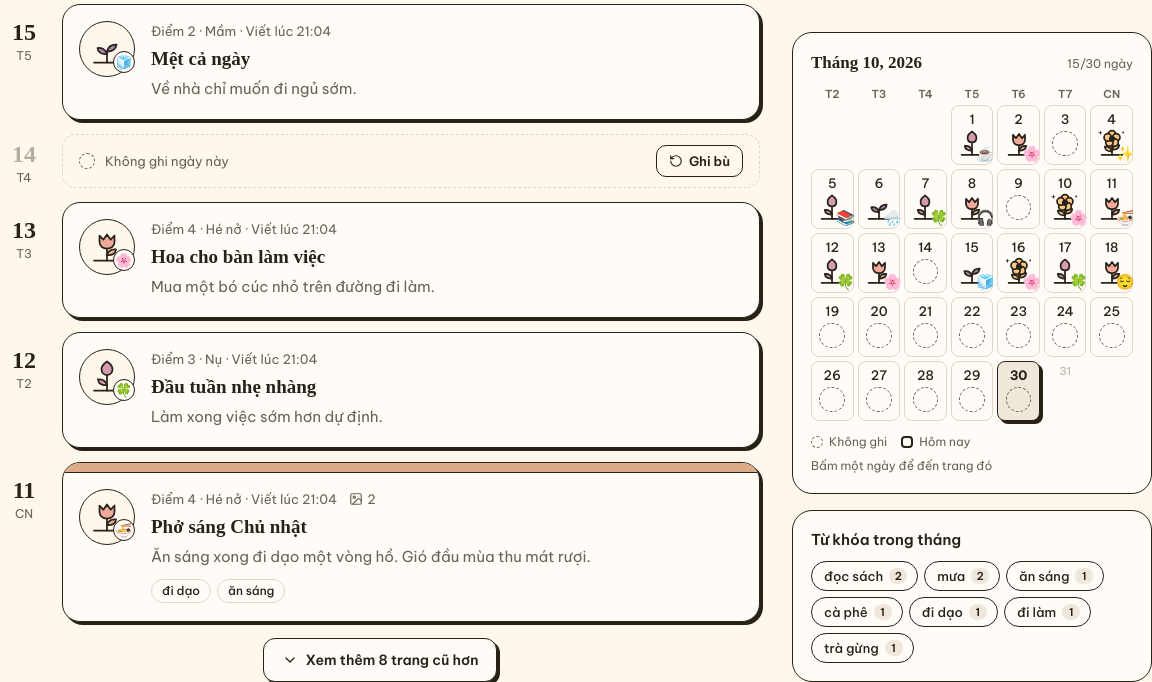
Scenario: Dòng thời gian › hiện thống kê, 7 trang mới nhất, xem thêm, và nút Ghi bù ở ngày bỏ trống
(page scrolled)
Check: the link "Cà phê đầu tháng" is not shown
Step 1. Click the button "Xem thêm 8 trang cũ hơn" → (380, 660), box [263,638,497,681]
(page scrolled)
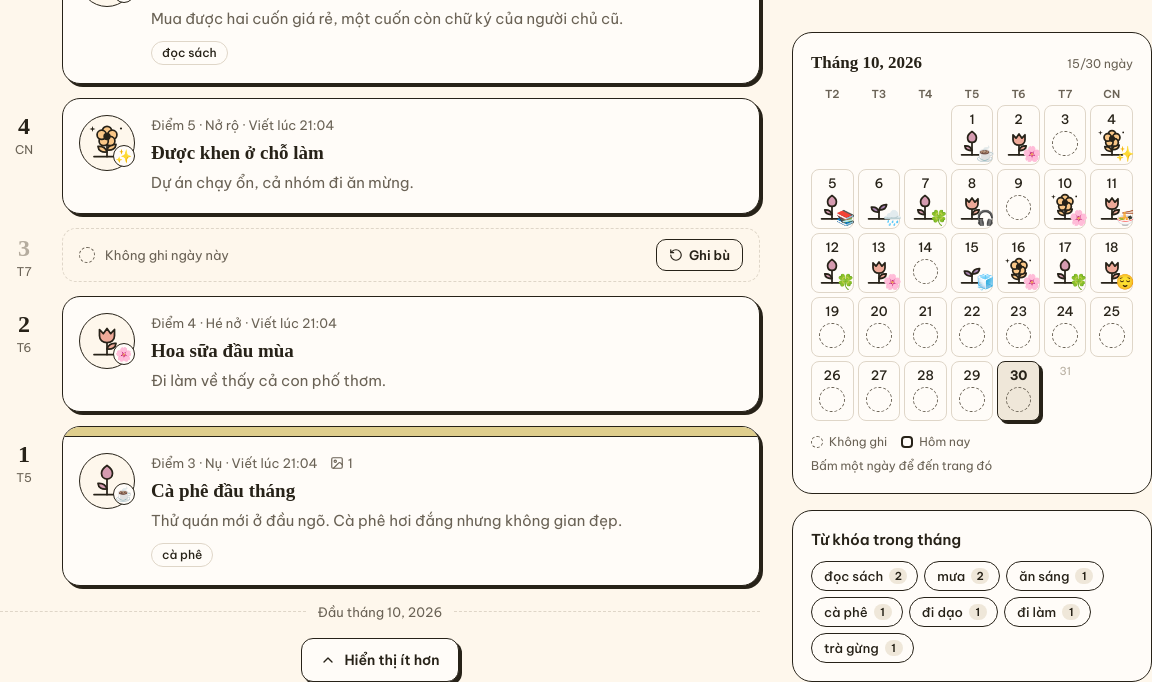
Check: the link "Cà phê đầu tháng" is shown, box [62,426,760,586]
Check: the number of buttons "Hiển thị ít hơn" is 2
